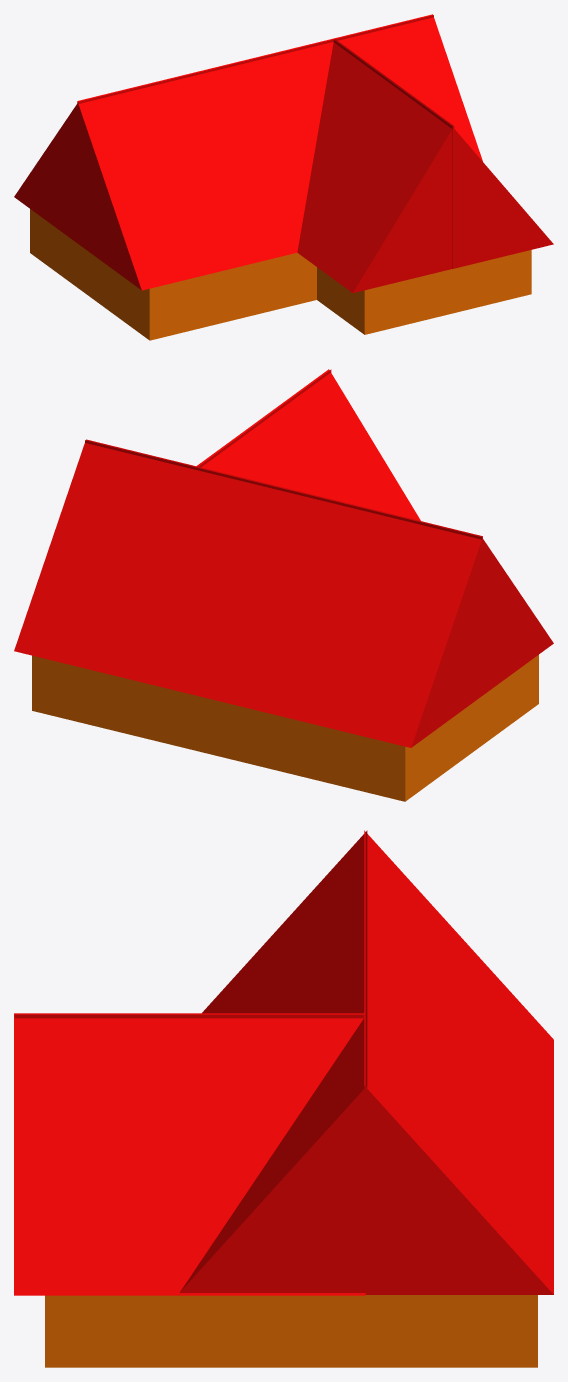
File: Butcher.fbx
The picture shows the model from 3 angles, top to bottom: view 1: azimuth 30°, elevation 25°; view 2: azimuth 150°, elevation 25°; view 3: azimuth 270°, elevation 25°; orthographic projection. The views are drawn at different scales.
Visible parts, largest first — view 1: Cube.002, Cube.004, Cube.001, Cube.003, Cube.008; view 2: Cube.008, Cube.001, Cube.004, Cube.002; view 3: Cube.003, Cube.008, Cube.002, Cube.001, Cube.004.
Part boxes in pixels (left/top/right/bottom): Cube.002: left=77, top=14, right=482, bottom=290; Cube.004: left=297, top=38, right=454, bottom=292; Cube.001: left=30, top=209, right=531, bottom=340; Cube.003: left=333, top=39, right=553, bottom=268; Cube.008: left=14, top=15, right=433, bottom=243; Cube.008: left=14, top=439, right=482, bottom=747; Cube.001: left=32, top=655, right=538, bottom=801; Cube.004: left=195, top=369, right=420, bottom=520; Cube.002: left=85, top=440, right=553, bottom=695; Cube.003: left=14, top=1013, right=365, bottom=1295; Cube.008: left=364, top=830, right=553, bottom=1294; Cube.002: left=179, top=830, right=367, bottom=1294; Cube.001: left=45, top=1295, right=537, bottom=1367; Cube.004: left=14, top=1014, right=366, bottom=1018.
Size of the model in its own units: 427 by 226 by 381.
